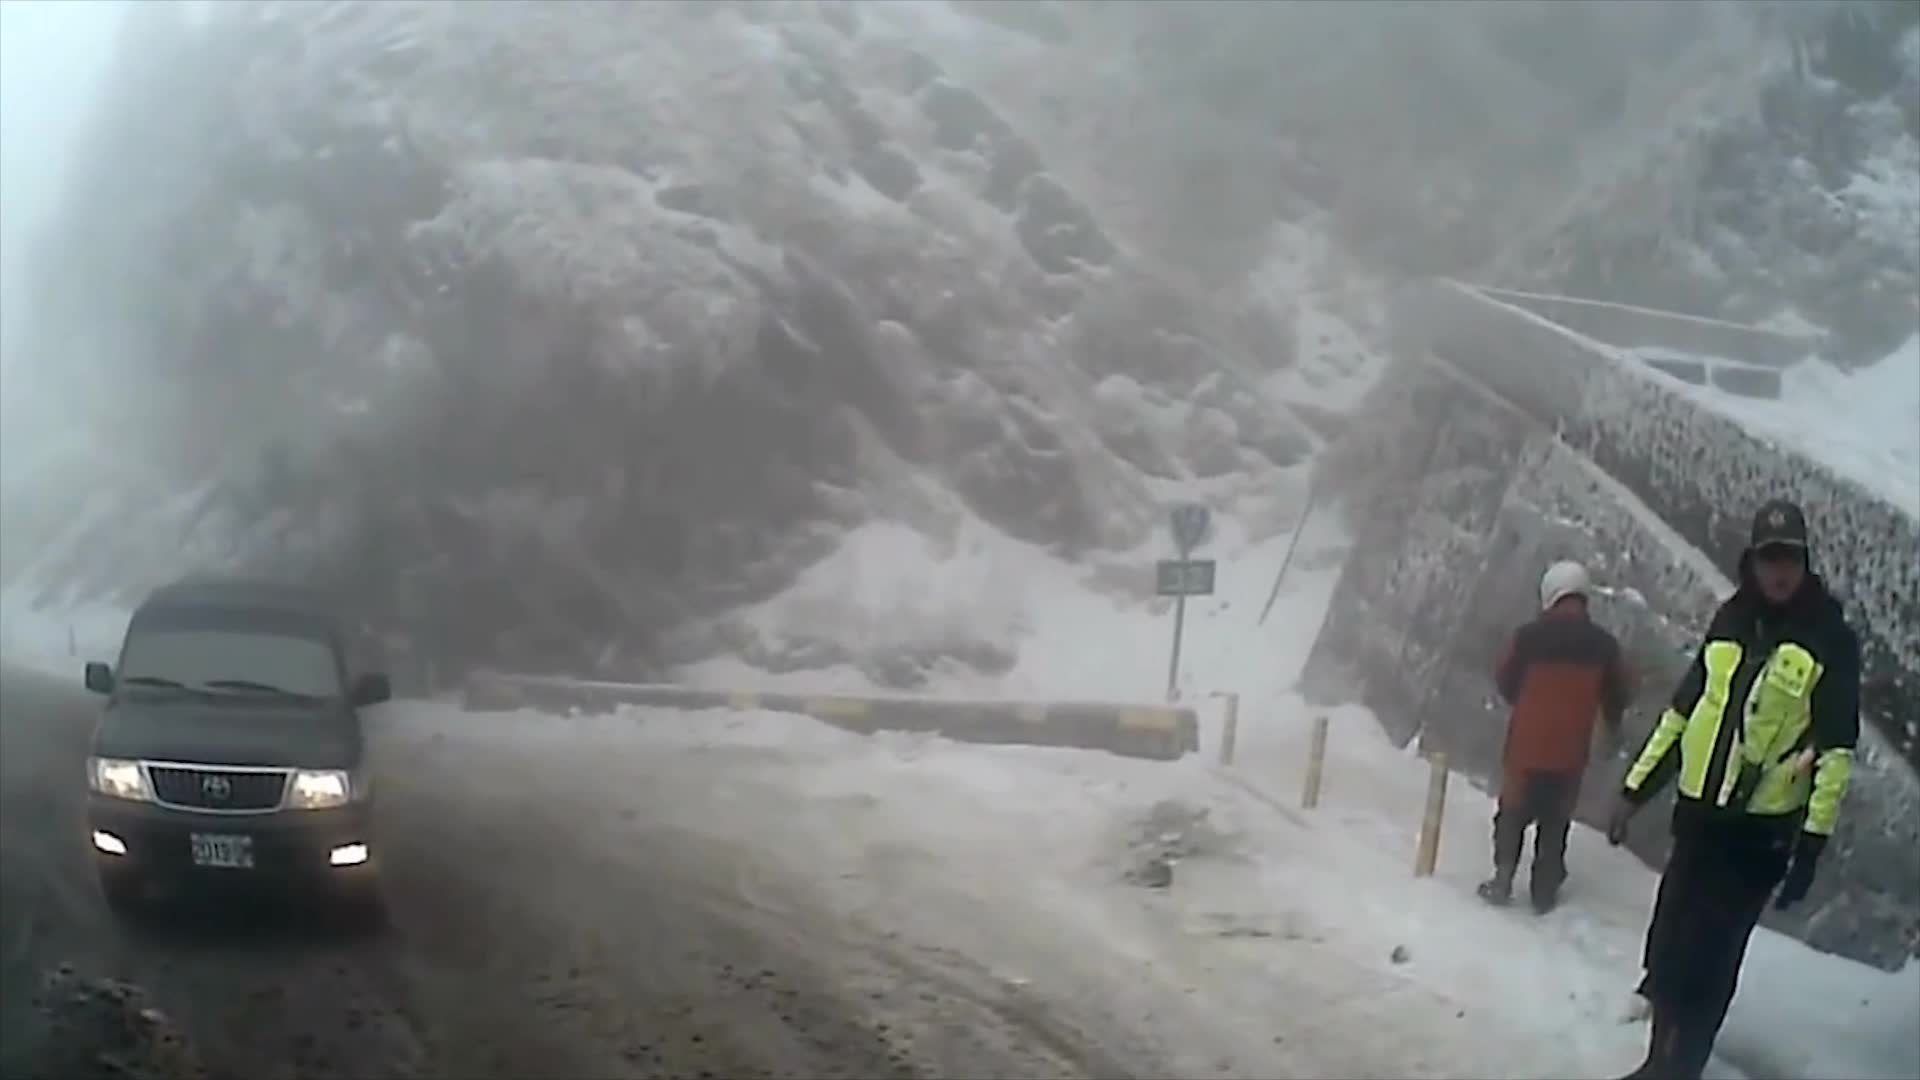pedestrian: (1597, 500, 1860, 1080), (1473, 559, 1632, 918)
vehicle: (82, 582, 392, 934)
